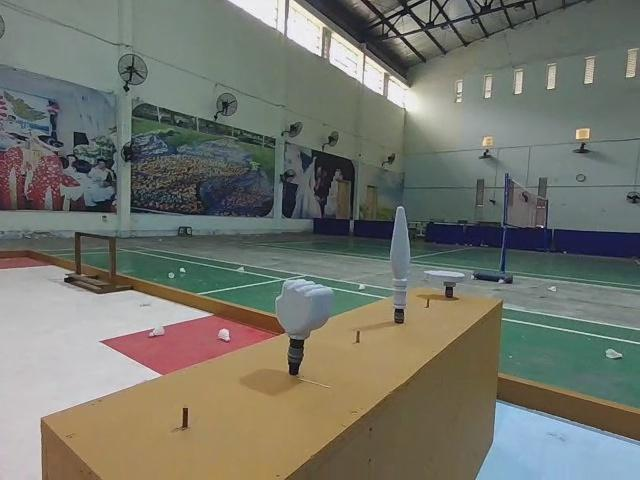Fist: (273, 276, 334, 377)
Hand: (427, 267, 464, 298)
Sph: (388, 205, 414, 326)
